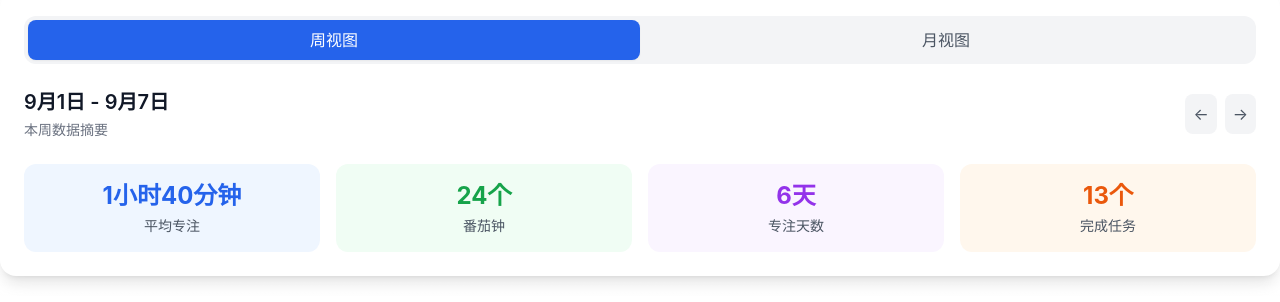
Test case: REQ-TM-S05: 查看周/月度数据摘要 - 验收测试 › AC-S05.1: 视图切换功能 › 点击月视图按钮应该切换到月视图
This screenshot has width=1280, height=302.
Click the tab with test id "month-view-button" at (946, 40), box [640,20,1252,60]
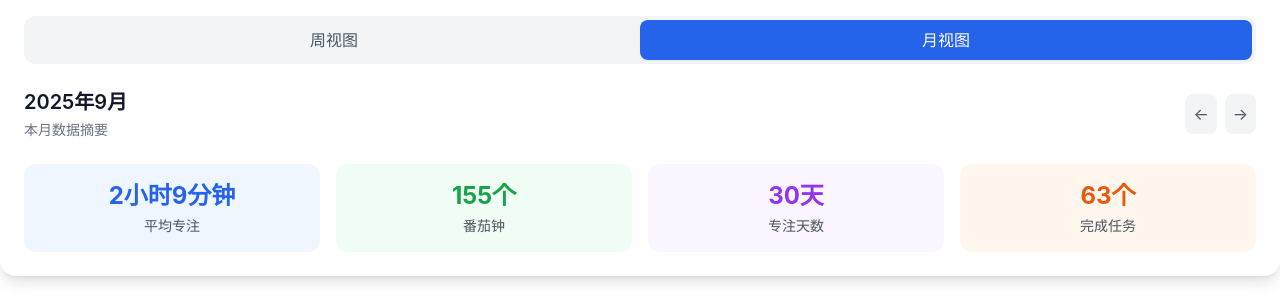
Expected: the element with test id "monthly-summary-content" is shown, [24,88,1256,252]
